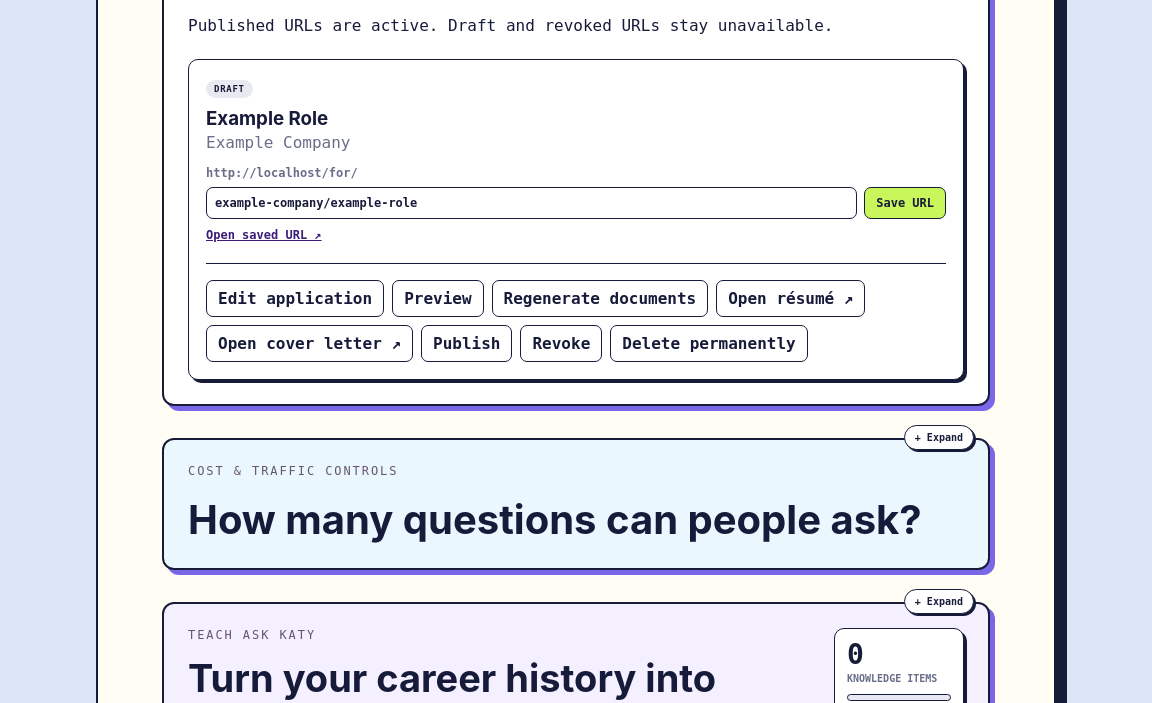
Test: shows a dismissible admin connection error when the backend cannot be reached
This screenshot has width=1152, height=703.
(page scrolled)
Click the button "Publish": (467, 344) [421,325,512,362]
(page scrolled)
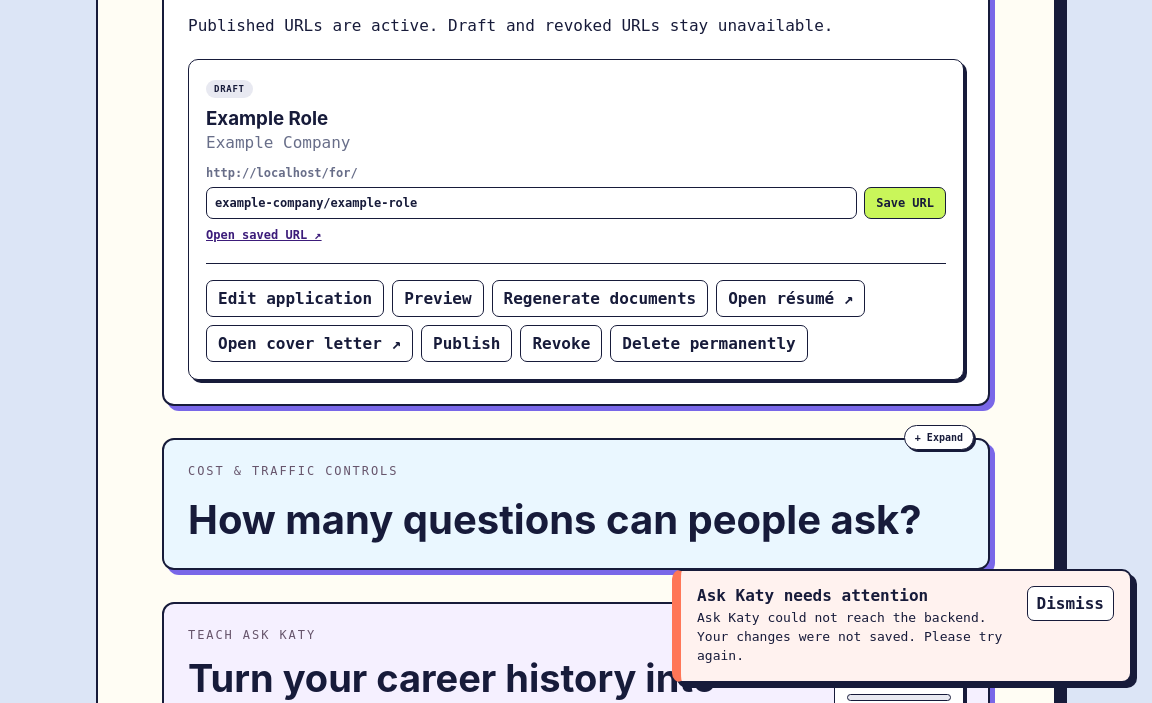
Expected: the message shows "could not reach the backend", [697,610,1002,663]
Click the button "Dismiss": (1070, 604) [1027,586,1114,622]
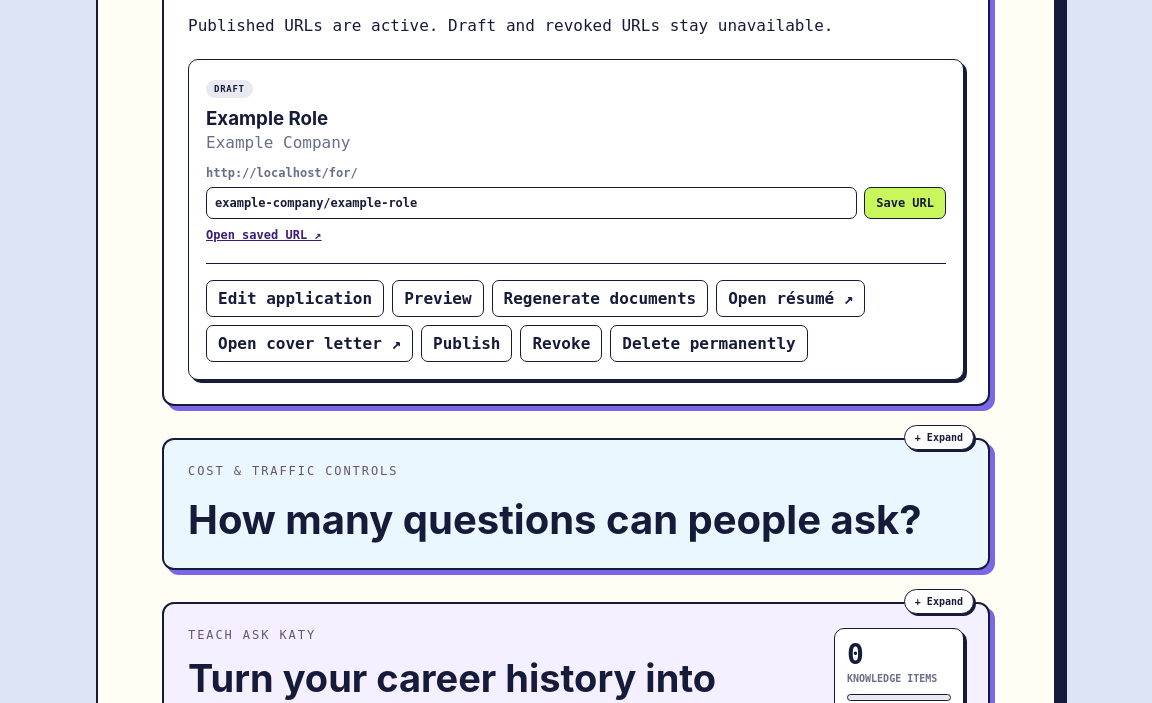
Expected: the message is gone
